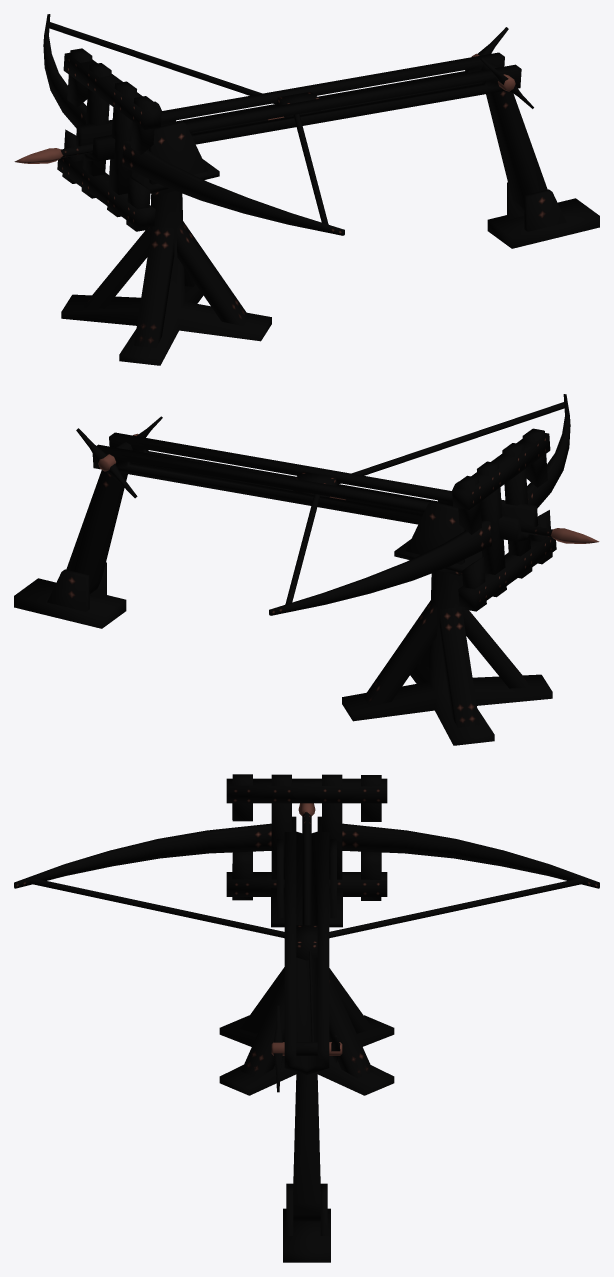
The model's file is ballista.gltf.
3 views of the same model, one above another, from view 1: azimuth 30°, elevation 25°; view 2: azimuth 150°, elevation 25°; view 3: azimuth 270°, elevation 25° (orthographic).
Visible parts, largest first — view 1: Ballista_low; view 2: Ballista_low; view 3: Ballista_low.
Part boxes in pixels (x1=…): Ballista_low: x1=14, y1=14, x2=599, y2=365; Ballista_low: x1=14, y1=394, x2=599, y2=745; Ballista_low: x1=14, y1=774, x2=599, y2=1262.
Size of the model in its own units: 3.23 by 1.39 by 2.89.
1 material, 1 textured.
